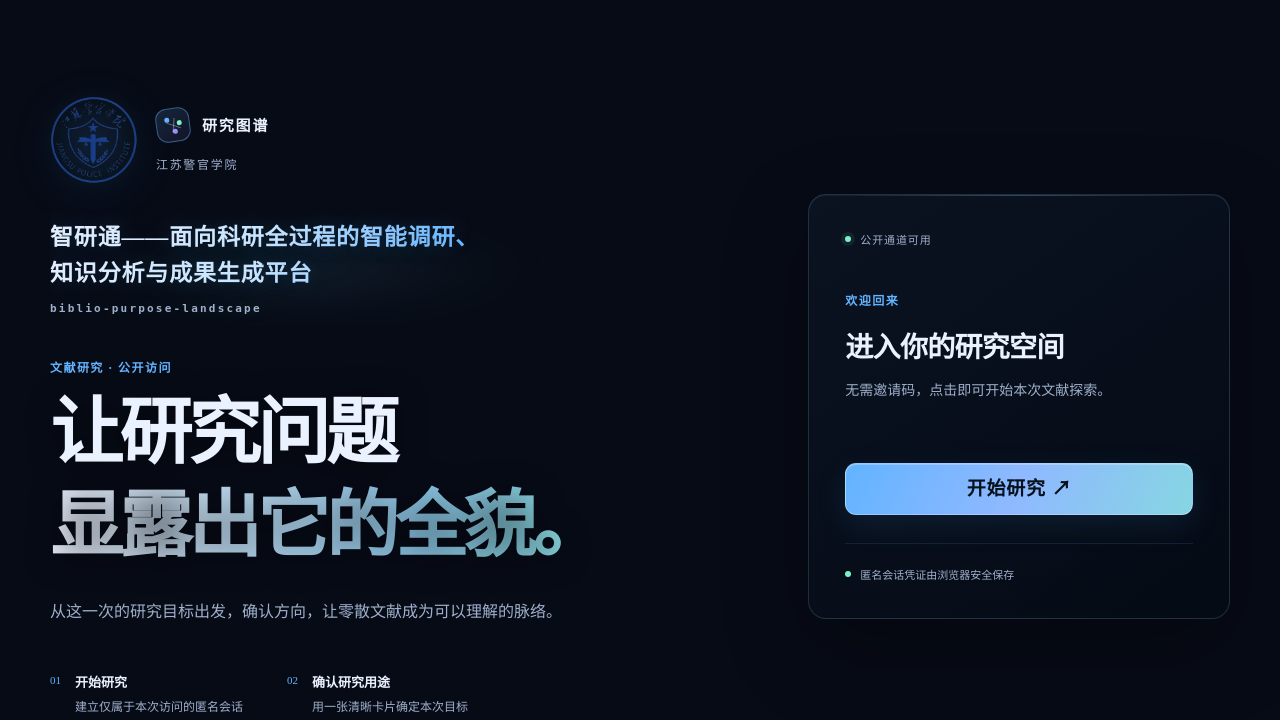
Test: InvitePage › keeps network failures readable and allows a retry
The width and height of the screenshot is (1280, 720).
Click the button "开始研究 ↗" at point(1019, 489), box 845,463 -> 1193,515
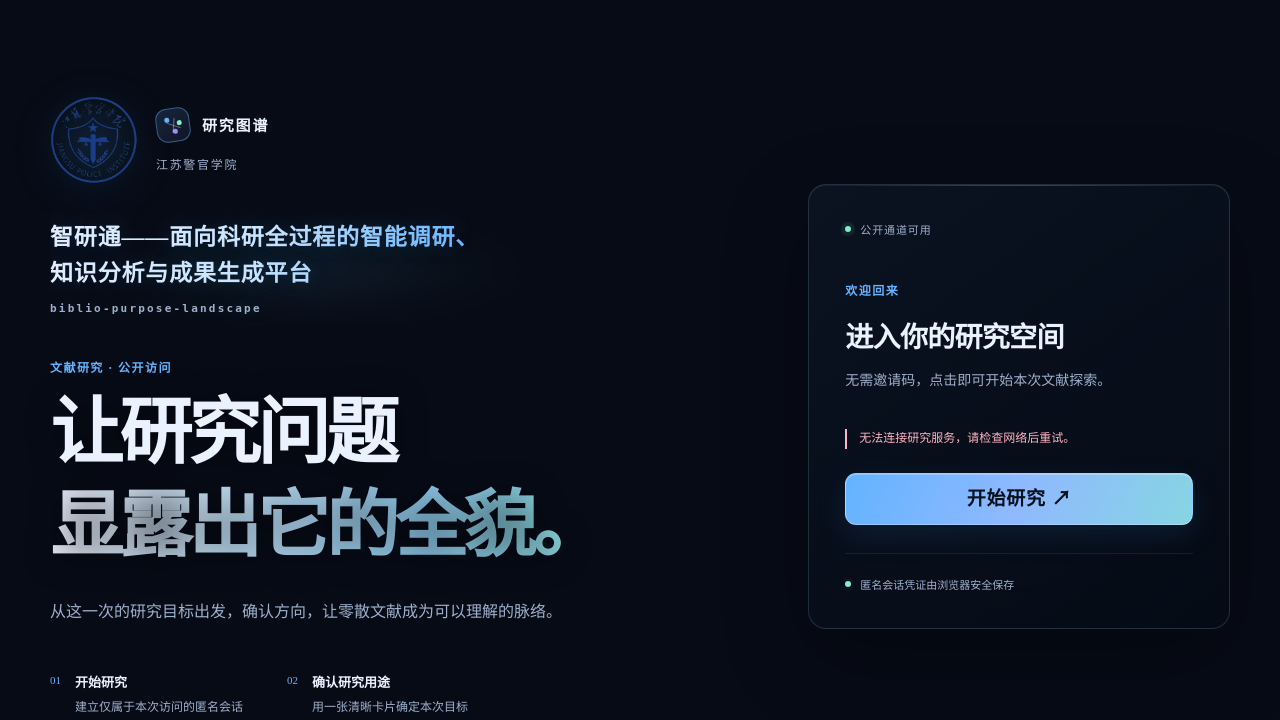
Expected: the button "开始研究 ↗" is enabled, 845,473 -> 1193,525
Expected: the message reads "无法连接研究服务，请检查网络后重试。", 859,431 -> 1075,445
